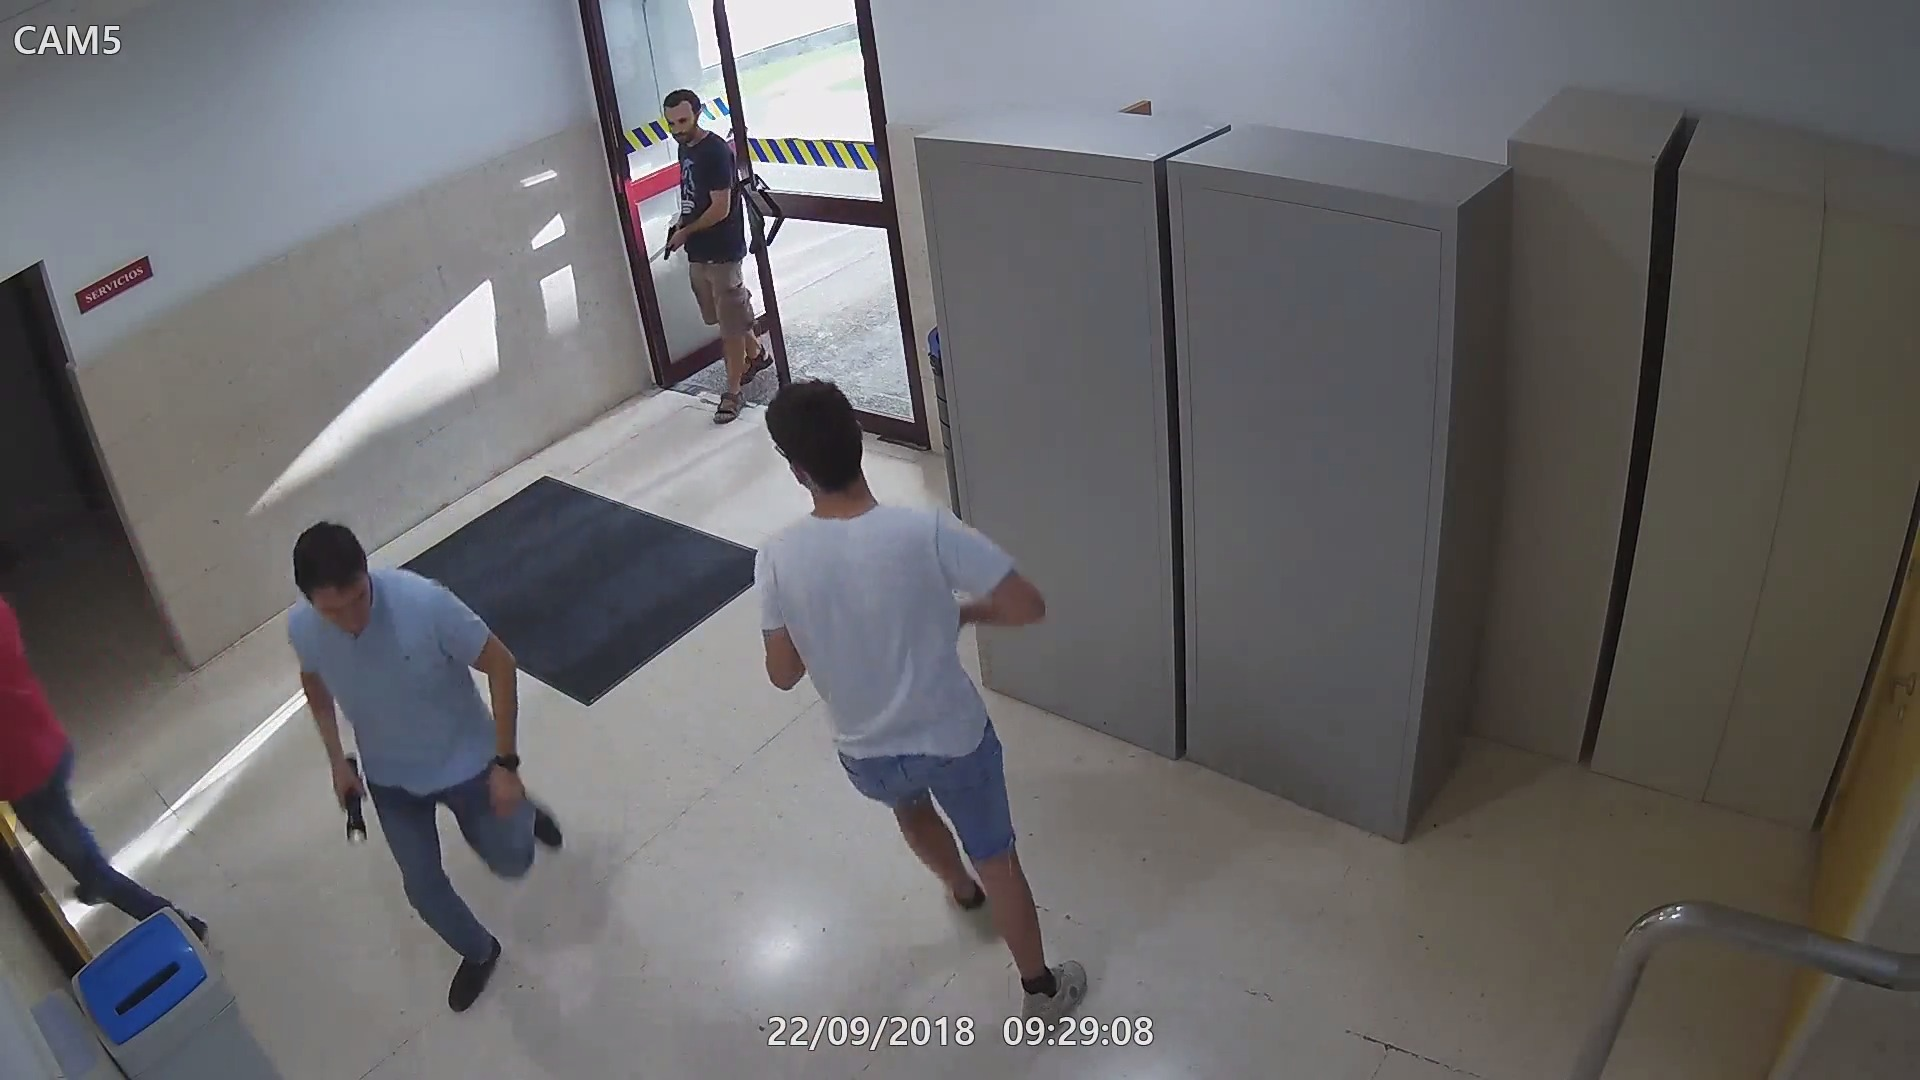Handgun: (659, 219, 686, 268)
